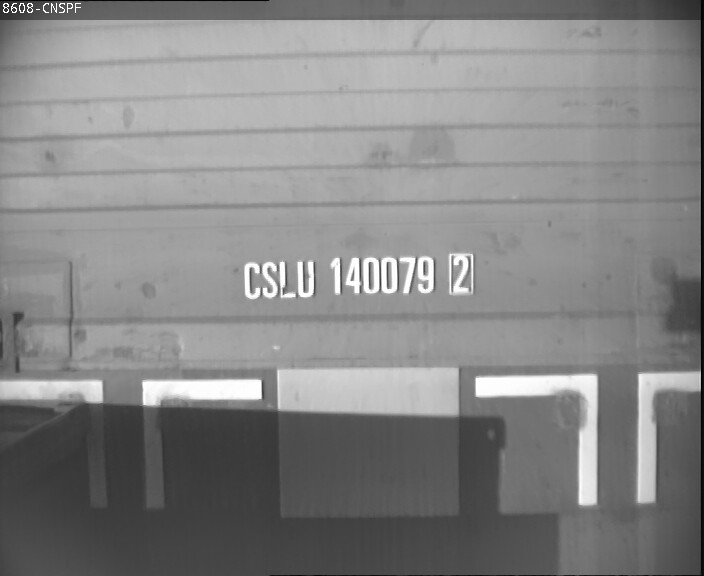groundmarker_1: (1, 379, 264, 509), (472, 374, 704, 504)
